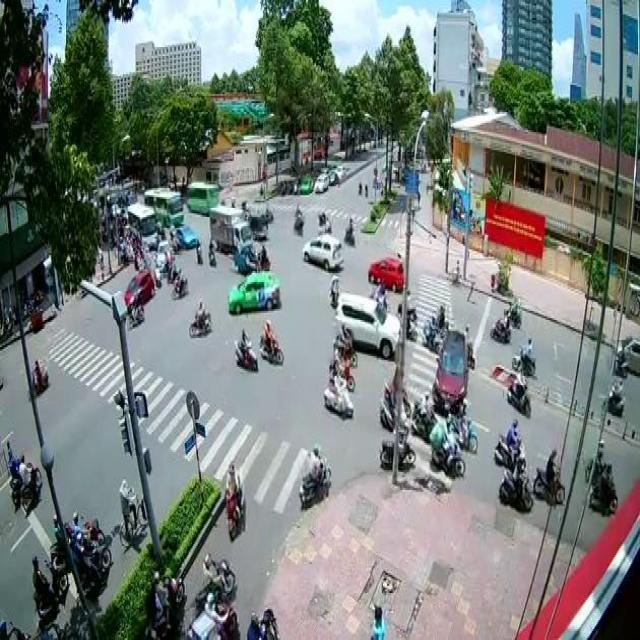bicycle: (118, 475, 149, 548)
car: (336, 289, 398, 356), (433, 328, 469, 410), (228, 268, 280, 312), (300, 232, 345, 270), (365, 253, 403, 291), (122, 269, 154, 311), (173, 222, 197, 246)
motorcycle: (145, 568, 185, 638), (193, 550, 236, 609), (32, 554, 68, 618), (299, 441, 331, 506), (531, 444, 565, 502), (497, 456, 532, 510), (589, 457, 618, 517), (493, 416, 526, 466), (223, 459, 244, 537), (322, 367, 354, 418), (17, 452, 42, 513), (504, 363, 530, 418), (259, 316, 283, 364), (6, 443, 23, 508), (234, 324, 259, 368), (419, 309, 442, 353), (186, 296, 211, 336), (26, 358, 49, 401), (511, 331, 534, 374), (602, 378, 624, 416), (490, 306, 510, 344), (126, 293, 144, 331), (503, 291, 522, 327), (169, 264, 189, 296), (342, 215, 354, 246)
truck: (208, 204, 252, 257)
